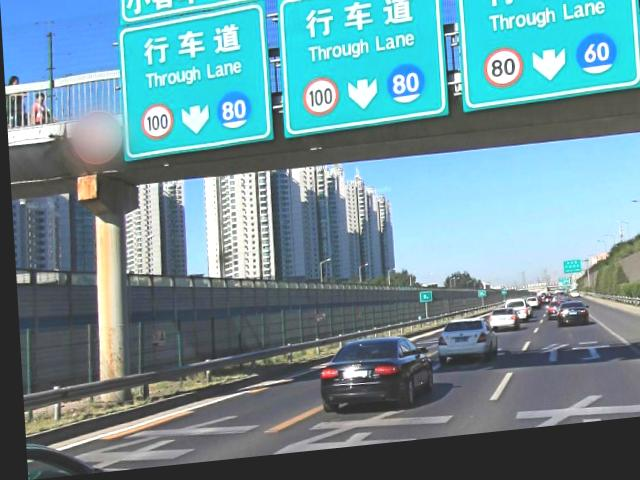limit80: (481, 52, 523, 99)
